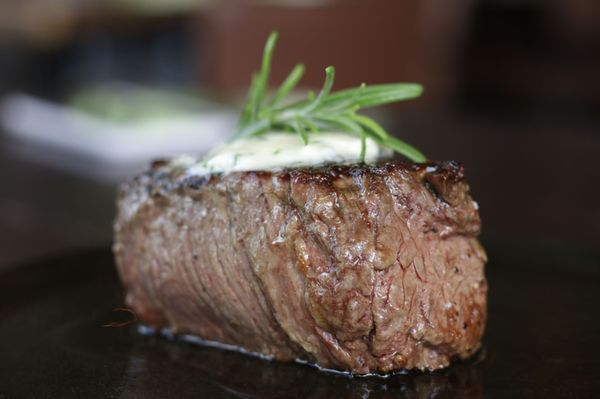soup: (109, 32, 487, 378)
